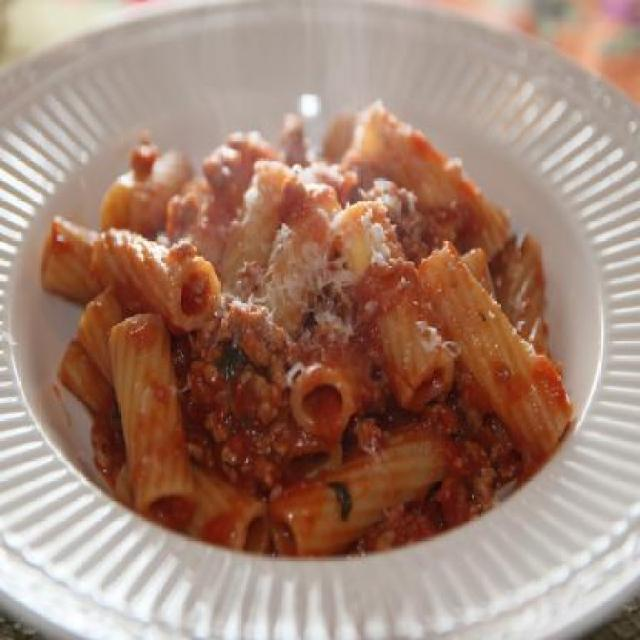Pasta al ragu: (48, 86, 590, 534)
